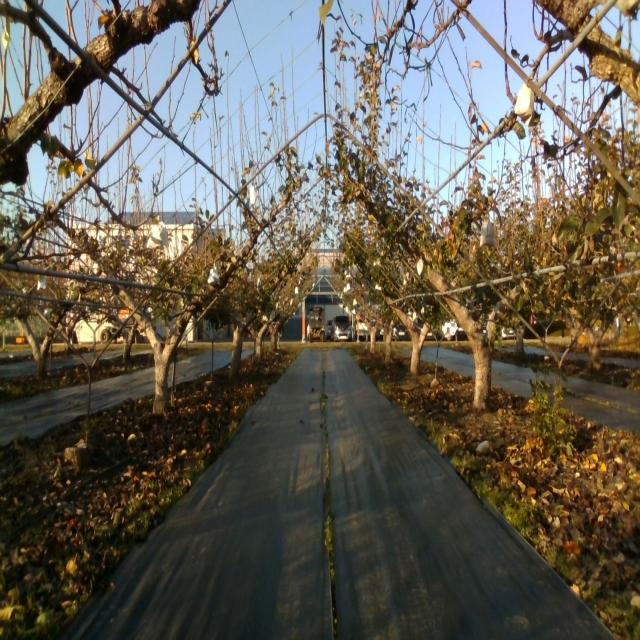pearbags: (514, 83, 536, 133), (146, 215, 168, 249), (479, 218, 497, 248), (207, 264, 220, 286)
